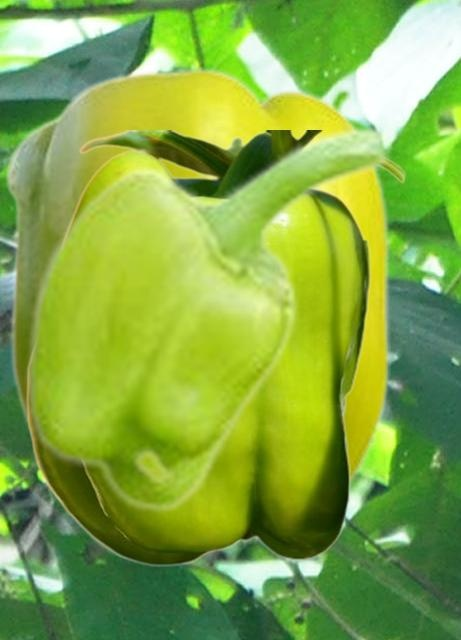bell_pepper: (4, 65, 389, 560), (25, 130, 405, 566), (23, 123, 394, 513)
